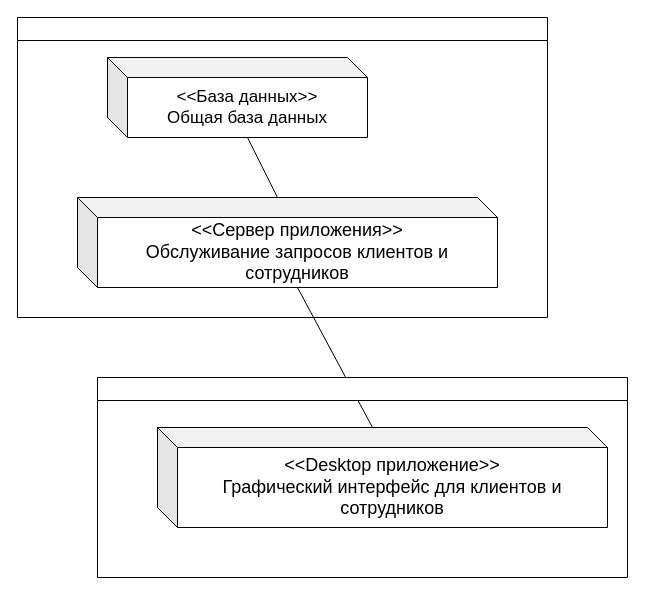
The diagram is 645 pixels wide and 595 high, and some of its shapes have lost their labels. Each missing label, with the centre of its shape:
Персональный компьютер клиента или сотрудника: the point at 362,477
Удалённый сервер: the point at 282,167
